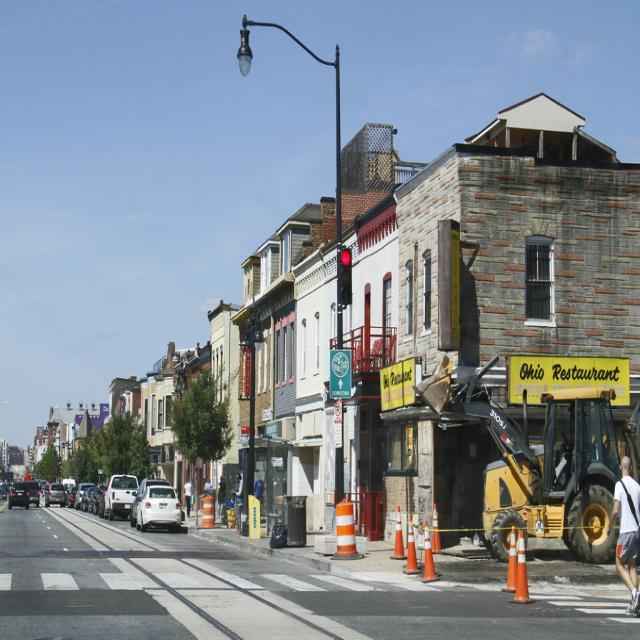traffic light: (338, 245, 353, 306)
